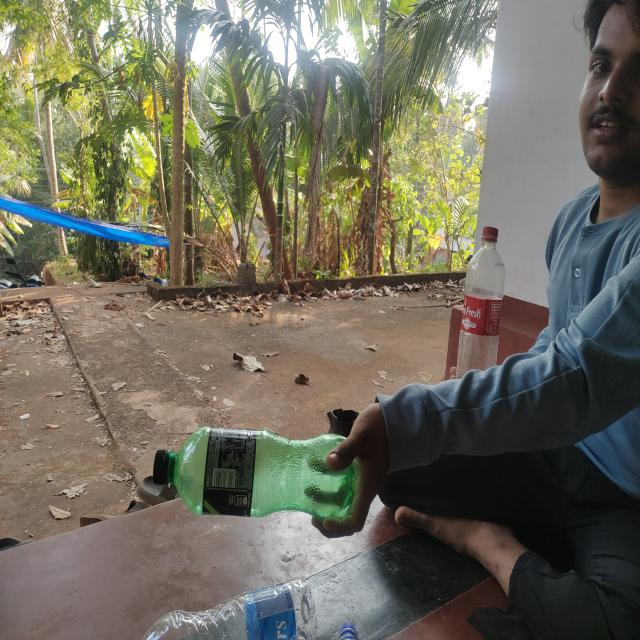plastic: (151, 425, 361, 523), (136, 575, 320, 640), (453, 222, 507, 382)
